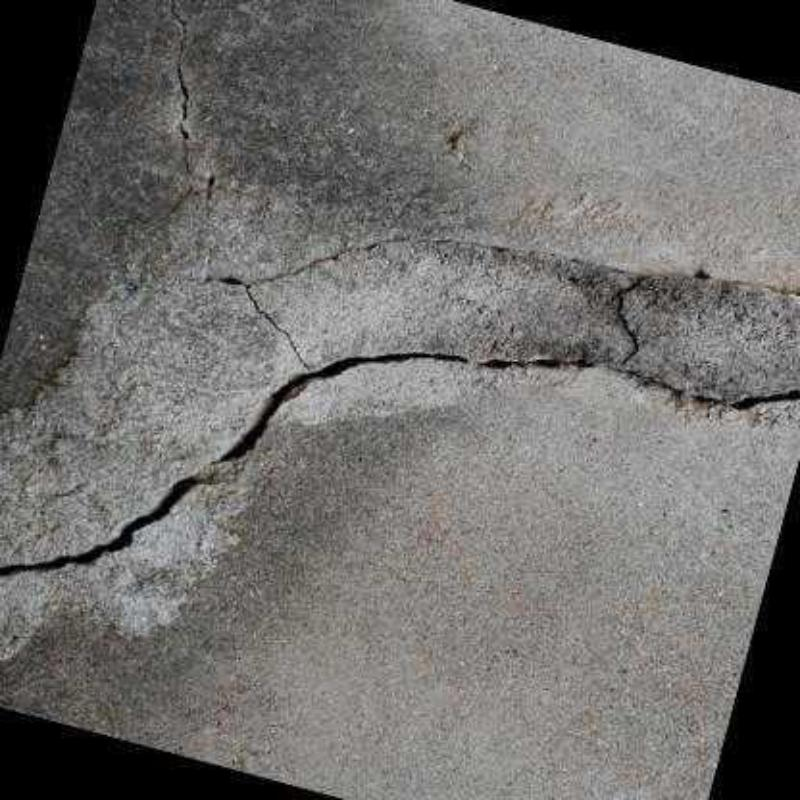pothole: (0, 349, 798, 578), (196, 235, 798, 367), (160, 0, 217, 190), (617, 271, 654, 367)
